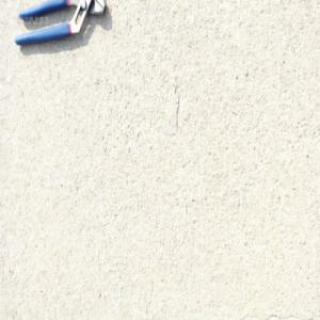Pliertrack_idkeyframe: (12, 0, 106, 46)
